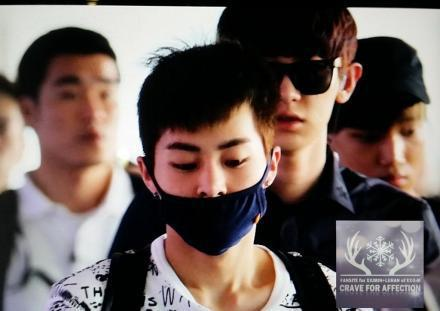NONE: (237, 49, 343, 148), (37, 72, 121, 167), (345, 115, 426, 195)
WRONG: (155, 132, 267, 244)
